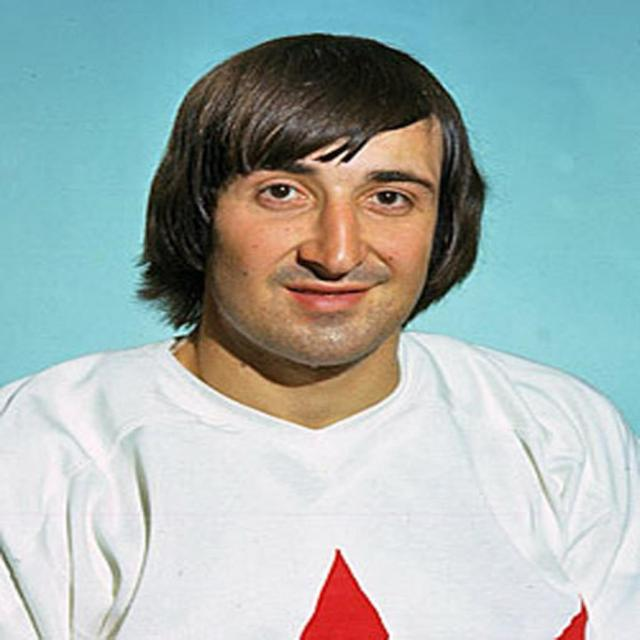Face: (159, 81, 452, 368)
